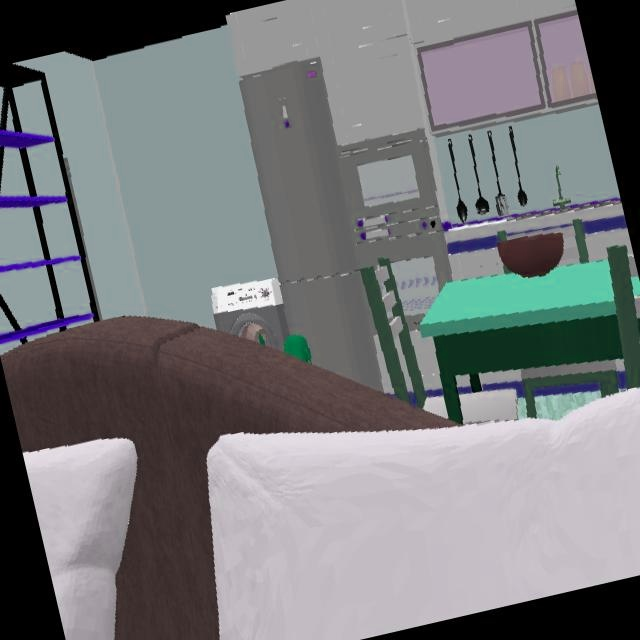cabinet: (227, 0, 596, 144)
chair: (361, 258, 447, 415), (459, 390, 517, 423)
fridge: (240, 59, 383, 390)
microwave: (339, 129, 442, 242)
pillow: (207, 391, 640, 640), (23, 439, 140, 640)
sofa: (0, 318, 454, 640)
table: (420, 259, 622, 420)
